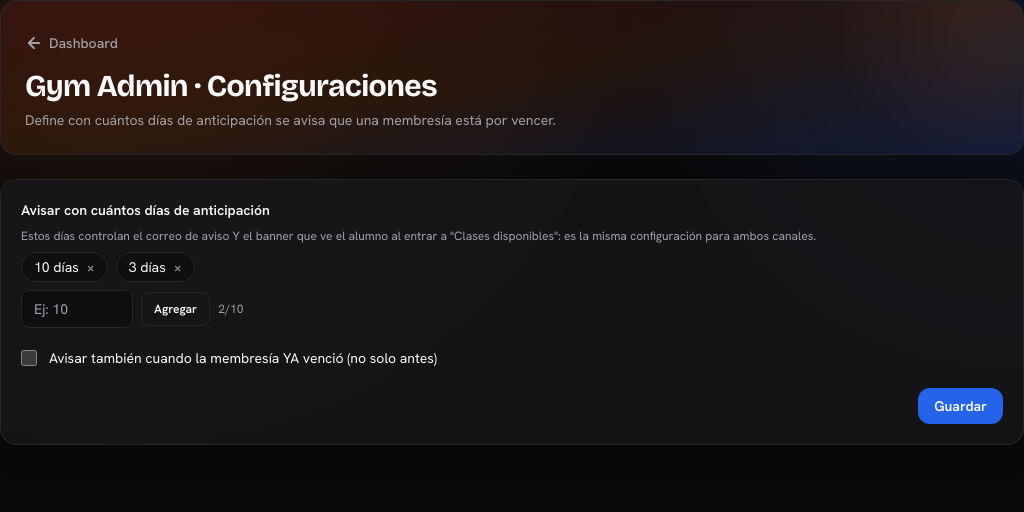
GymAdminExpiryNotificationConfigPage — guardar (PUT) › si el backend responde 400, muestra el error real del backend
Expected: the text "10 días" is shown, left=21, top=252, right=108, bottom=282
Click the button "Guardar" at point(961, 406), box left=918, top=388, right=1003, bottom=424
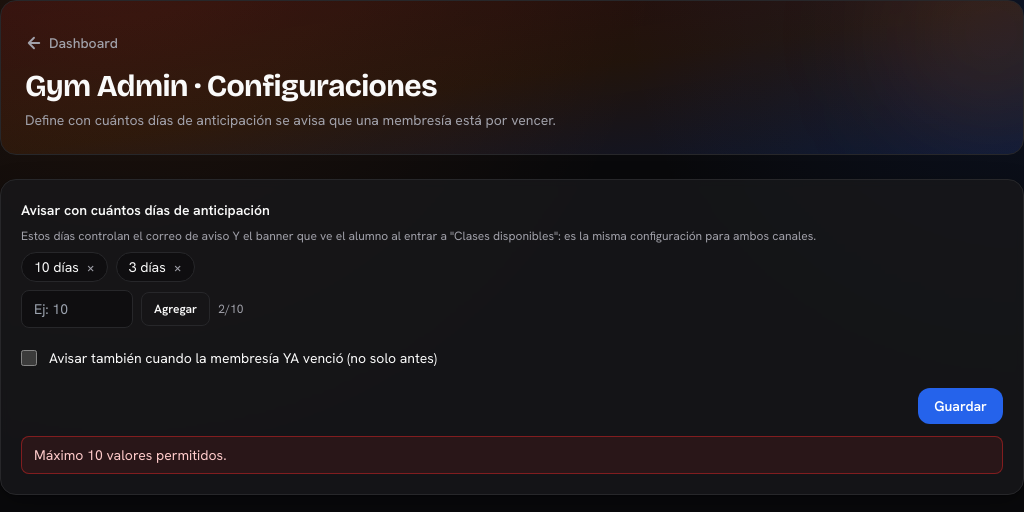
Now the text "Máximo 10 valores permitidos." is shown, box left=21, top=436, right=1003, bottom=474
